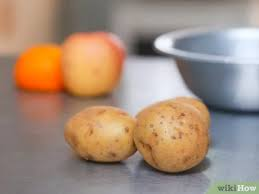potato: (131, 95, 208, 168), (59, 102, 138, 162)
